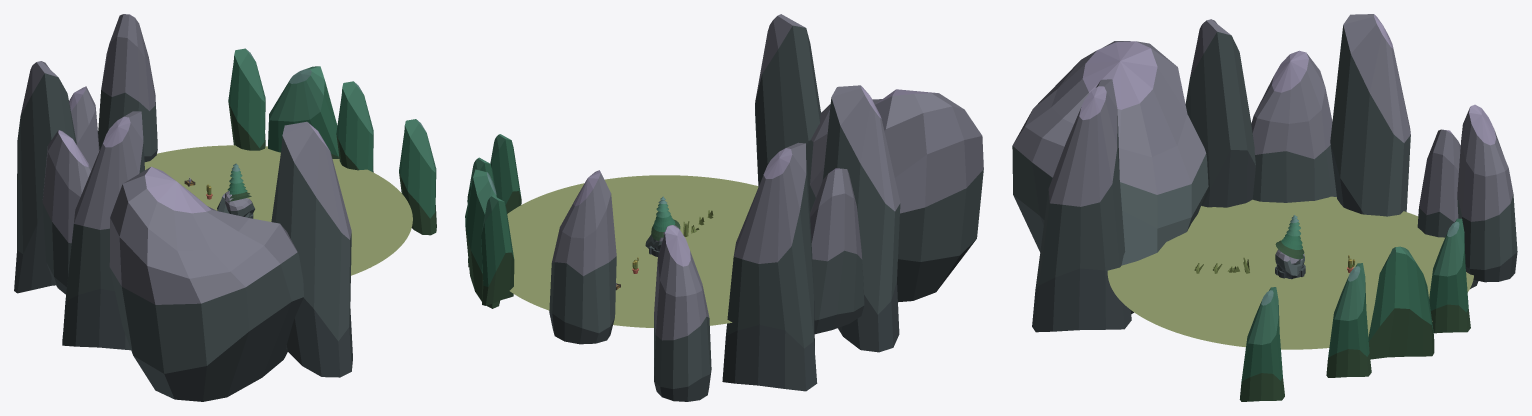
Rendered from Well.fbx.
3 views of the same model, side by side, from view 1: azimuth 30°, elevation 25°; view 2: azimuth 150°, elevation 25°; view 3: azimuth 270°, elevation 25° (orthographic). The views are drawn at different scales.
Parts seen in each view (by area): view 1: Stone 03.001, Stone 01.002, Platform, Stone 01.001, Stone 01.003, Stone 02.003, Stone 02, Stone 01.006, Stone 01.004, Stone 01.005, Stone 01.007, Stone 02.002 (+2 smaller); view 2: Platform, Stone 01.003, Stone 03.001, Stone 01.001, Stone 02.003, Stone 02.002, Stone 01.002, Stone 02, Stone 01.005, Stone 01.006, Stone 01.004, Tanne; view 3: Platform, Stone 03.001, Stone 01.002, Stone 01.003, Stone 02, Stone 01.001, Stone 02.003, Stone 01.006, Stone 01.007, Stone 01.004, Stone 02.002, Stone 01.005 (+2 smaller).
Boxes of the visible parts, box(x1,y1,x2,y2) form: Stone 03.001: box(109, 166, 303, 401); Stone 01.002: box(271, 121, 352, 377); Platform: box(144, 145, 412, 275); Stone 01.001: box(62, 111, 144, 350); Stone 01.003: box(14, 61, 76, 293); Stone 02.003: box(98, 14, 157, 161); Stone 02: box(42, 130, 91, 294); Stone 01.006: box(268, 66, 339, 158); Stone 01.004: box(399, 119, 436, 235); Stone 01.005: box(228, 48, 265, 150); Stone 01.007: box(336, 81, 373, 172); Stone 02.002: box(69, 86, 99, 168); Platform: box(507, 175, 758, 327); Stone 01.003: box(722, 142, 817, 391); Stone 03.001: box(806, 89, 983, 302); Stone 01.001: box(822, 85, 900, 352); Stone 02.003: box(549, 170, 616, 344); Stone 02.002: box(654, 225, 711, 401); Stone 01.002: box(755, 14, 820, 186); Stone 02: box(810, 168, 864, 334); Stone 01.005: box(481, 195, 514, 305); Stone 01.006: box(465, 169, 499, 308); Stone 01.004: box(490, 134, 521, 213); Tanne: box(649, 196, 680, 256); Platform: box(1107, 196, 1473, 349); Stone 03.001: box(1012, 41, 1208, 313); Stone 01.002: box(1032, 79, 1131, 332); Stone 01.003: box(1330, 14, 1410, 216); Stone 02: box(1251, 50, 1336, 202); Stone 01.001: box(1185, 19, 1255, 207); Stone 02.003: box(1457, 104, 1517, 282); Stone 01.006: box(1368, 246, 1434, 359); Stone 01.007: box(1326, 263, 1371, 377); Stone 01.004: box(1239, 287, 1284, 401); Stone 02.002: box(1417, 129, 1478, 288); Stone 01.005: box(1429, 218, 1470, 333).
Bounding box in the file's own units: 12666 × 7255 × 13726.
